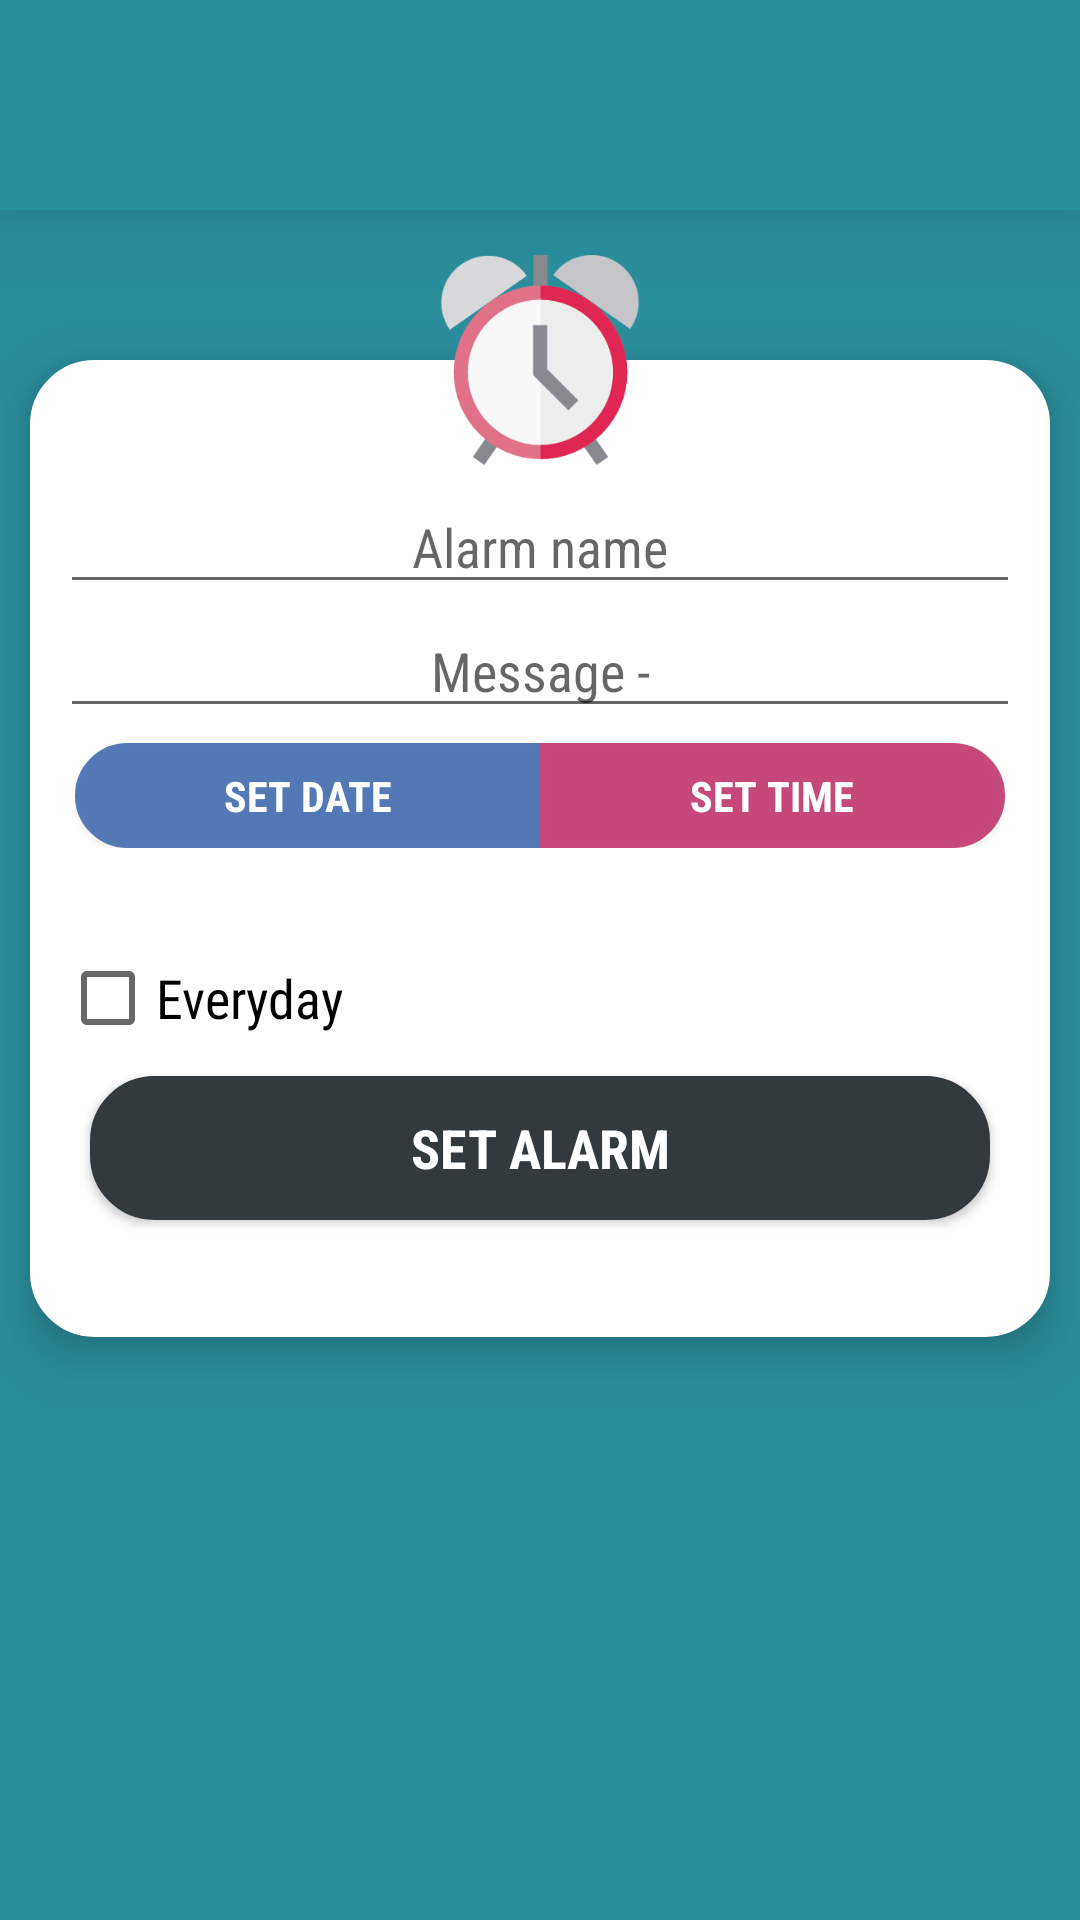

Where to tap for icons on this 1080px x 1920px app screen, as (x,y):
alarm clock: (540,360)
